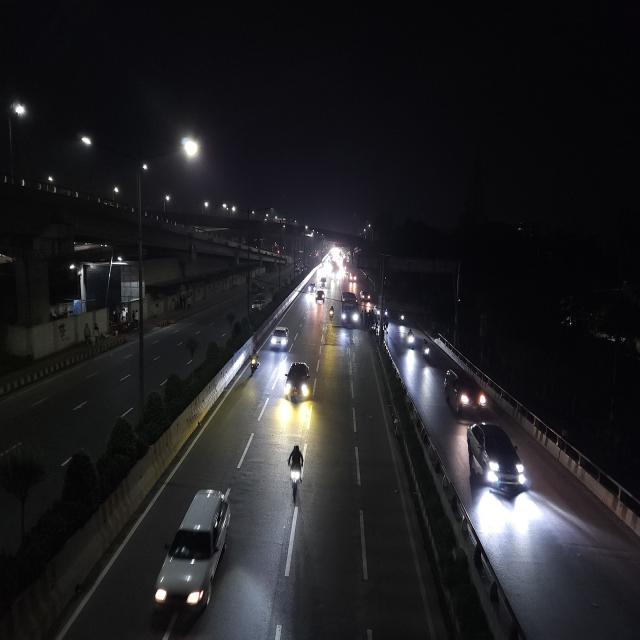bus: (339, 289, 361, 330)
car: (148, 480, 236, 630), (463, 418, 533, 500), (442, 367, 490, 420), (283, 359, 313, 404), (269, 324, 291, 353), (250, 296, 266, 314), (315, 289, 327, 305), (307, 280, 317, 293)
motorcycle: (285, 440, 309, 498), (248, 348, 262, 380), (420, 339, 432, 365), (404, 328, 416, 350), (328, 302, 336, 323), (396, 310, 406, 326)
pedestrian: (384, 316, 390, 336), (360, 307, 364, 328), (376, 314, 380, 330)
